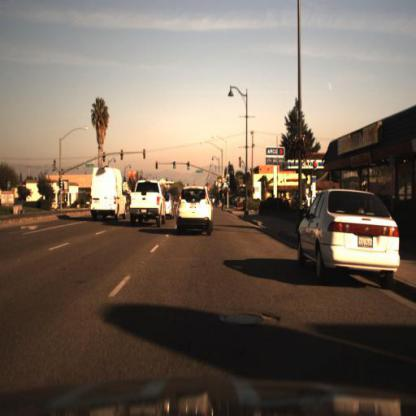biker: (219, 188, 229, 215)
car: (296, 185, 404, 291), (91, 166, 128, 223), (127, 176, 166, 229), (176, 186, 215, 237), (165, 194, 177, 220)
trafficLight-Green: (224, 173, 232, 191), (185, 159, 192, 175), (171, 159, 178, 174), (222, 181, 228, 194)
trafficLight-RedLeft: (156, 159, 160, 171)
truck: (91, 169, 129, 224)
